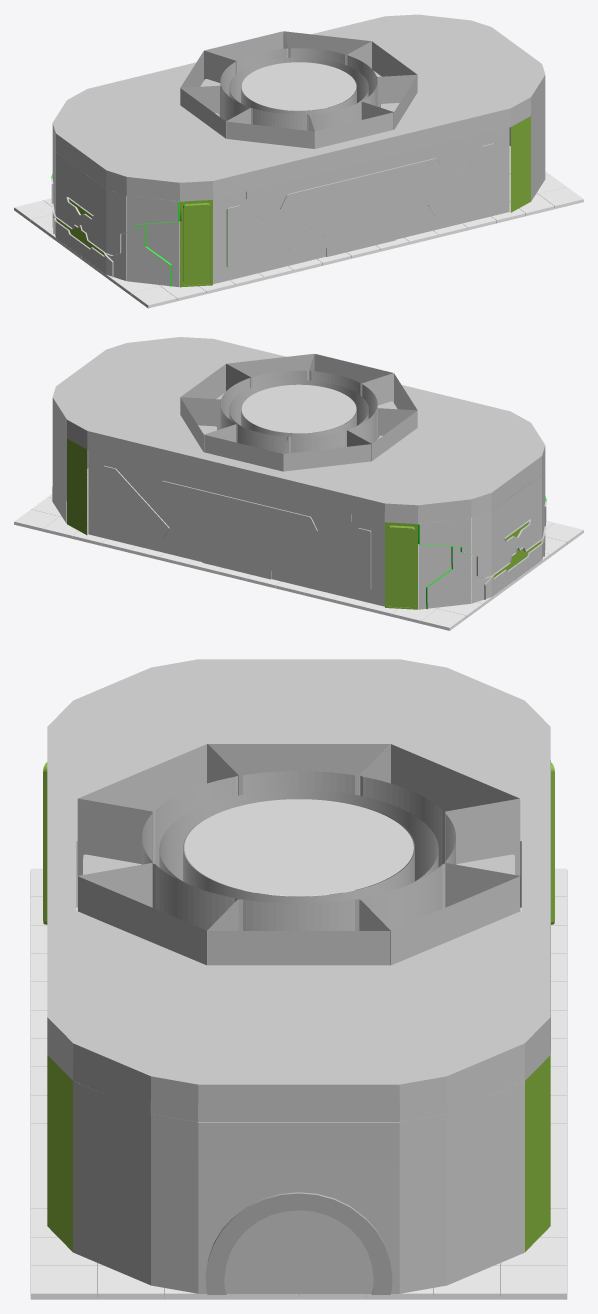
The model's file is central.gltf.
3 views of the same model, one above another, from view 1: azimuth 30°, elevation 25°; view 2: azimuth 150°, elevation 25°; view 3: azimuth 270°, elevation 25° (orthographic). The views are drawn at different scales.
Parts seen in each view (by area): view 1: Plane.001, Plane.015, Cylinder.001, Plane, Cube.021, Cylinder.002, Plane.007, Plane.009, Cylinder, Plane.008; view 2: Plane.001, Plane.015, Cylinder.001, Plane, Cube.021, Cylinder.002, Plane.007, Plane.009, Plane.008, Cylinder; view 3: Plane.001, Plane.007, Cylinder.001, Cube.021, Cylinder.002, Cylinder, Circle.006, Plane, Cylinder.007.
Boxes of the visible parts, bbox=[...] form: Plane.001: bbox=[52, 14, 545, 201]; Plane.015: bbox=[213, 110, 509, 284]; Cylinder.001: bbox=[180, 31, 417, 148]; Plane: bbox=[51, 152, 212, 287]; Cube.021: bbox=[14, 146, 583, 308]; Cylinder.002: bbox=[241, 62, 356, 110]; Plane.007: bbox=[510, 94, 545, 212]; Plane.009: bbox=[51, 142, 126, 280]; Cylinder: bbox=[229, 57, 368, 115]; Plane.008: bbox=[183, 204, 209, 285]; Plane.001: bbox=[52, 337, 545, 523]; Plane.015: bbox=[88, 450, 384, 606]; Cylinder.001: bbox=[180, 353, 417, 471]; Plane: bbox=[385, 475, 546, 609]; Cube.021: bbox=[14, 468, 583, 630]; Cylinder.002: bbox=[241, 384, 356, 433]; Plane.007: bbox=[52, 416, 87, 534]; Plane.009: bbox=[471, 465, 546, 603]; Plane.008: bbox=[388, 527, 414, 607]; Cylinder: bbox=[229, 380, 368, 437]; Plane.001: bbox=[47, 659, 550, 1121]; Plane.007: bbox=[47, 1055, 550, 1293]; Cylinder.001: bbox=[77, 744, 520, 965]; Cube.021: bbox=[30, 868, 567, 1299]; Cylinder.002: bbox=[184, 799, 413, 896]; Cylinder: bbox=[159, 789, 438, 903]; Circle.006: bbox=[205, 1192, 392, 1294]; Plane: bbox=[43, 762, 554, 924]; Cylinder.007: bbox=[83, 854, 514, 874].
Size of what is drawn, in the model's own units: 60.38 by 16.42 by 32.
